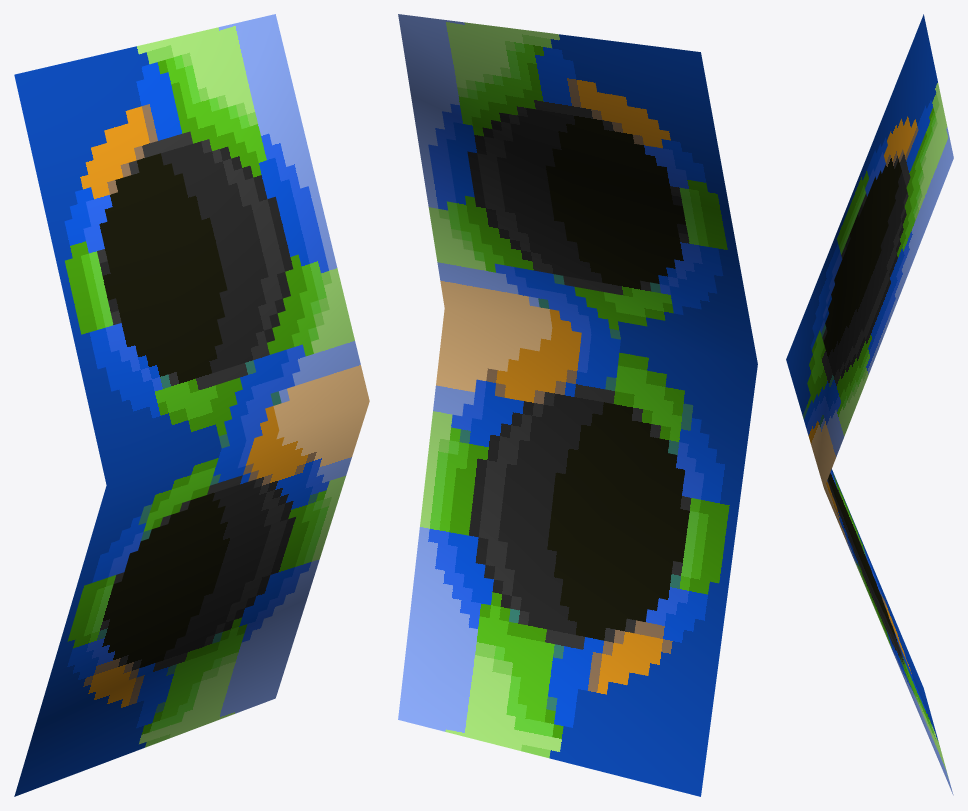
The model's file is acc_shade_grace.dae.
The picture shows the model from 3 angles, left to right: view 1: azimuth 30°, elevation 25°; view 2: azimuth 150°, elevation 25°; view 3: azimuth 270°, elevation 25°; orthographic projection. The views are drawn at different scales.
Visible parts, largest first — view 1: acc_shade_grace; view 2: acc_shade_grace; view 3: acc_shade_grace.
Part boxes in pixels (box(x1,y1,x2,y2)): acc_shade_grace: box(14, 14, 369, 796); acc_shade_grace: box(398, 14, 757, 796); acc_shade_grace: box(786, 14, 953, 795).
Bounding box in the file's own units: 9.72 × 22.21 × 5.01.
1 material, 1 textured.
